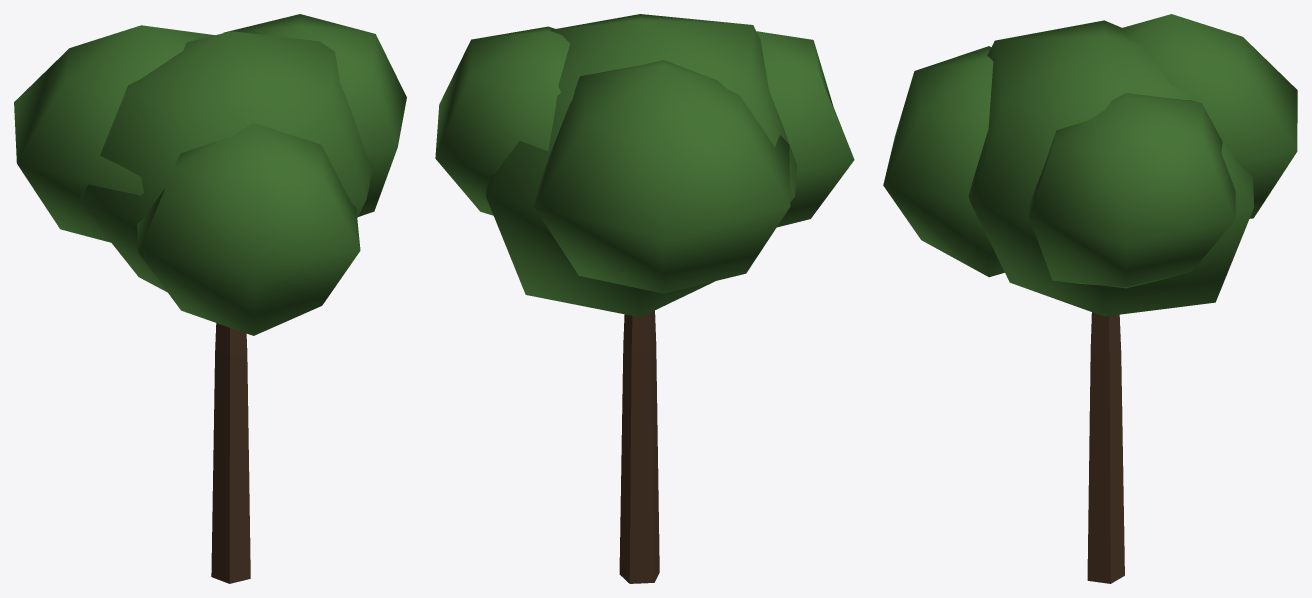
3 renders of one model, left to right at view 1: azimuth 30°, elevation 25°; view 2: azimuth 150°, elevation 25°; view 3: azimuth 270°, elevation 25°, orthographic. The views are drawn at different scales.
Parts seen in each view (by area): view 1: 树_08; view 2: 树_08; view 3: 树_08.
Part boxes in pixels (x1,y1,x2,y2): 树_08: [14, 14, 406, 583]; 树_08: [435, 14, 854, 583]; 树_08: [883, 14, 1297, 583].
Size of the model in its own units: 4.94 by 7 by 4.88.
